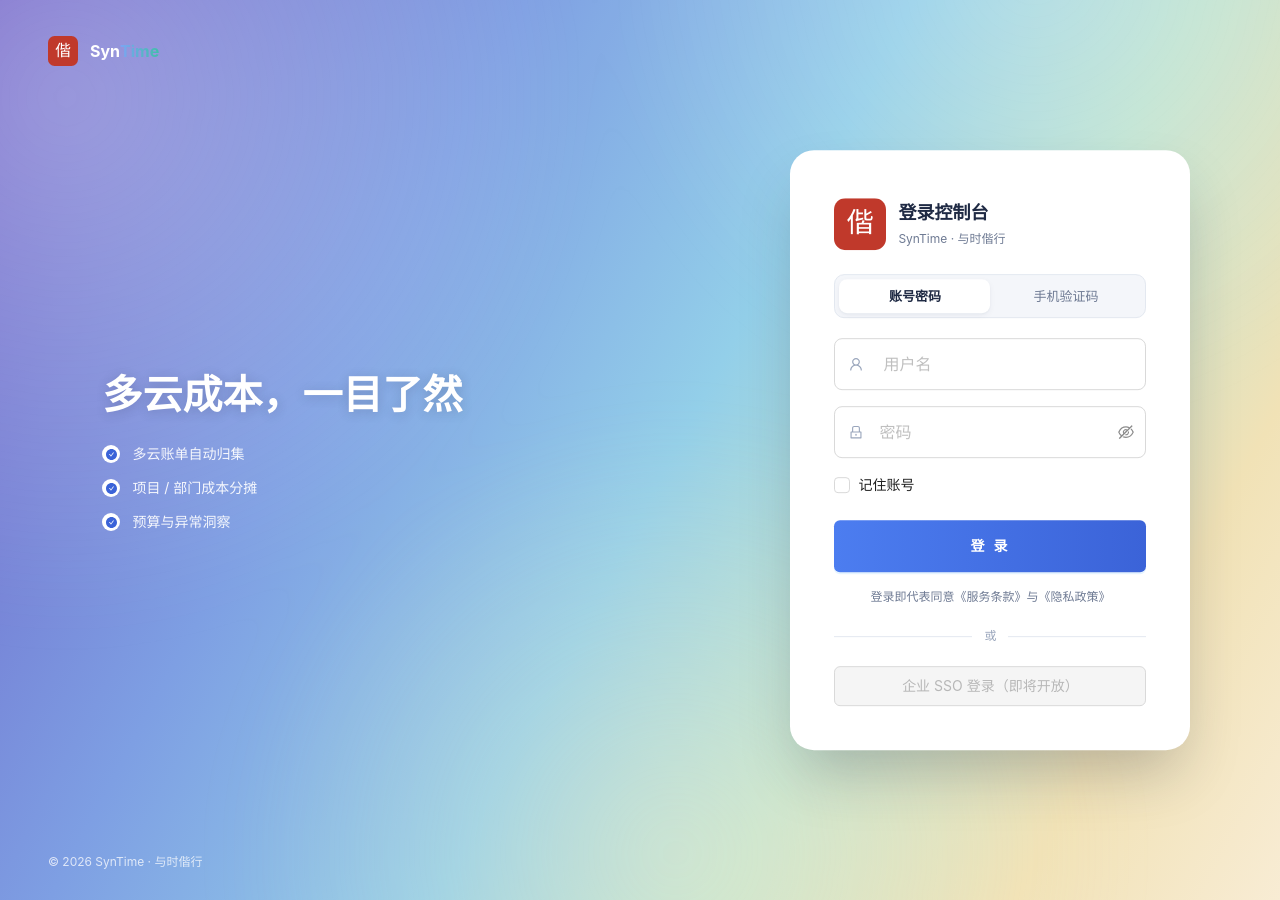
Scenario: 短信页签只提示不发请求
What coordinates should you click on to do the following:
click the button "手机验证码"
I would click on:
 (1066, 296)
Its box is [990,279,1141,313].
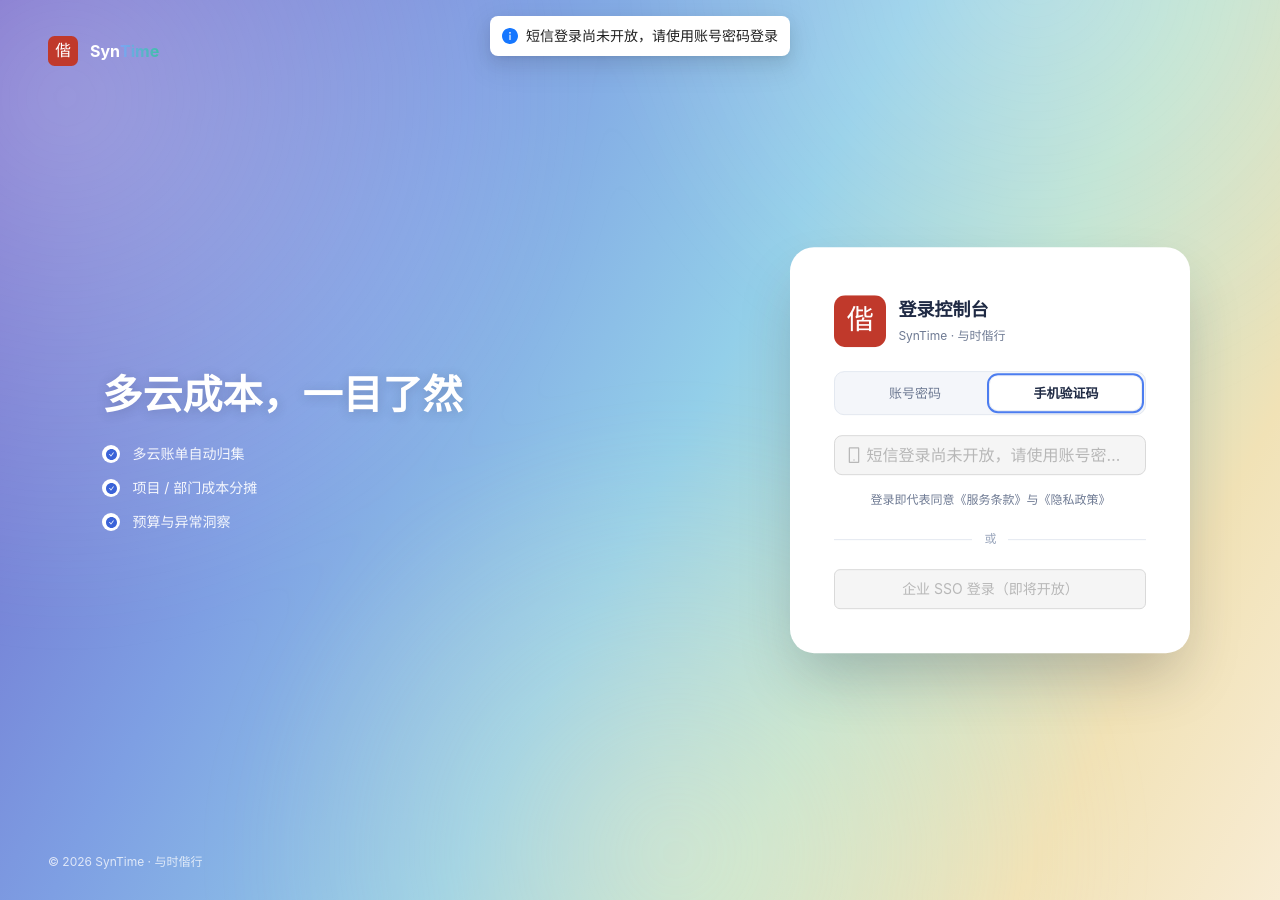
Result: the text "短信登录尚未开放，请使用账号密码登录" is shown at [526,25,778,47]
